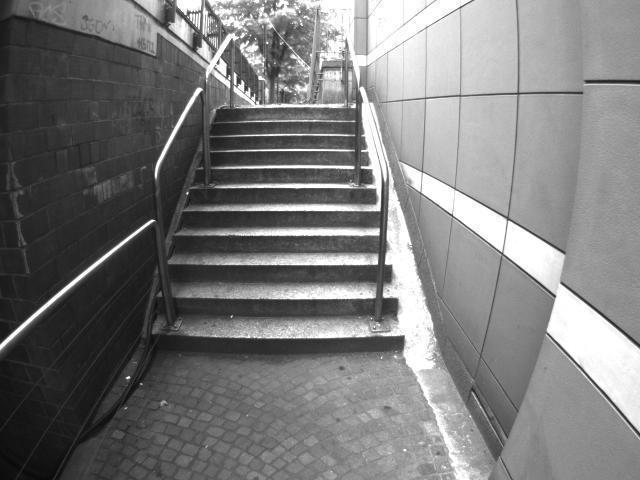Escaleras: (164, 102, 398, 347)
